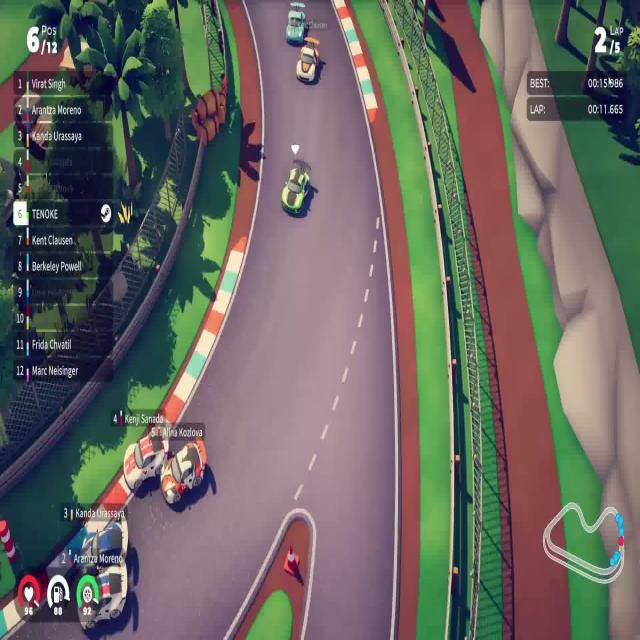car: (122, 421, 170, 493), (160, 436, 207, 506), (80, 518, 126, 566), (281, 163, 310, 216), (296, 36, 320, 84)
